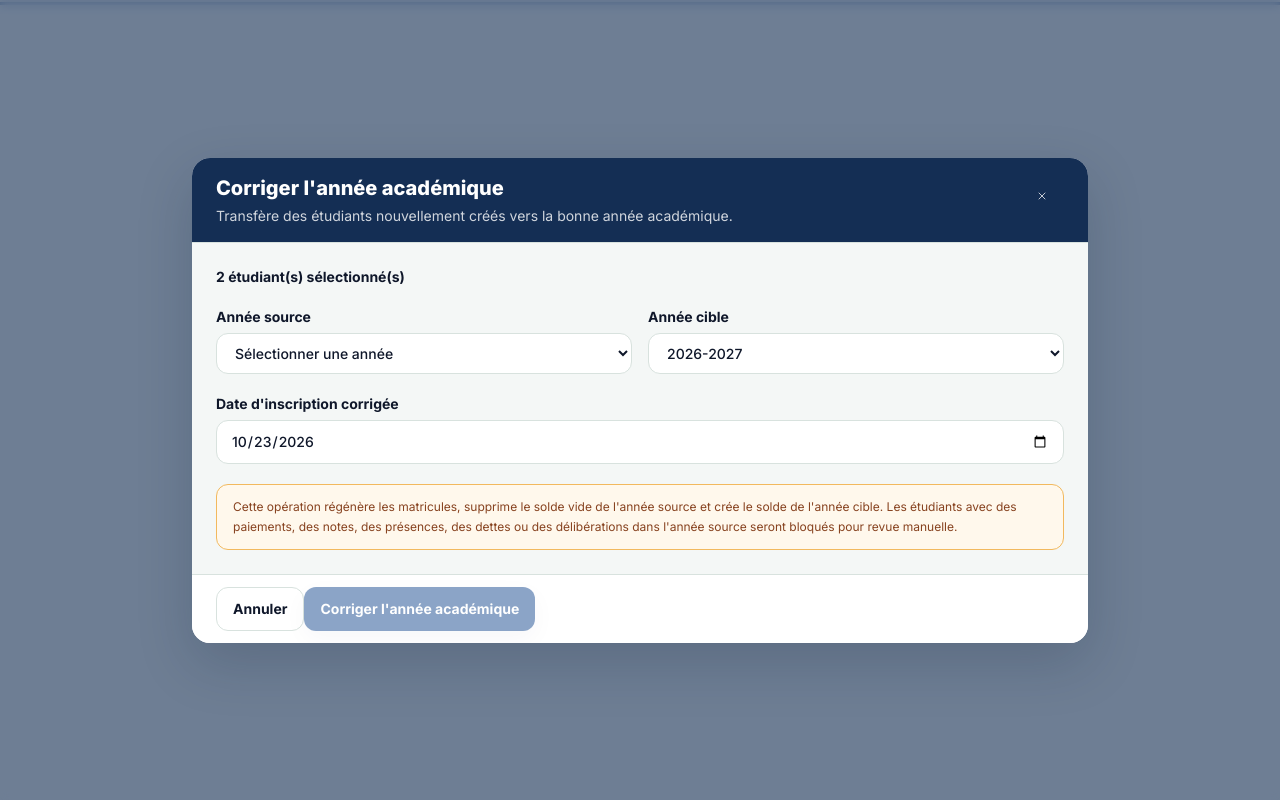
Test: AcademicYearCorrectionModal › surfaces API validation errors without closing the dialog
Check: the dropdown labelled "Année cible" shows "2026-2027", box [648,332,1064,374]
Select "2025-2026" in the dropdown labelled "Année source" at (424, 353), box [216,332,632,374]
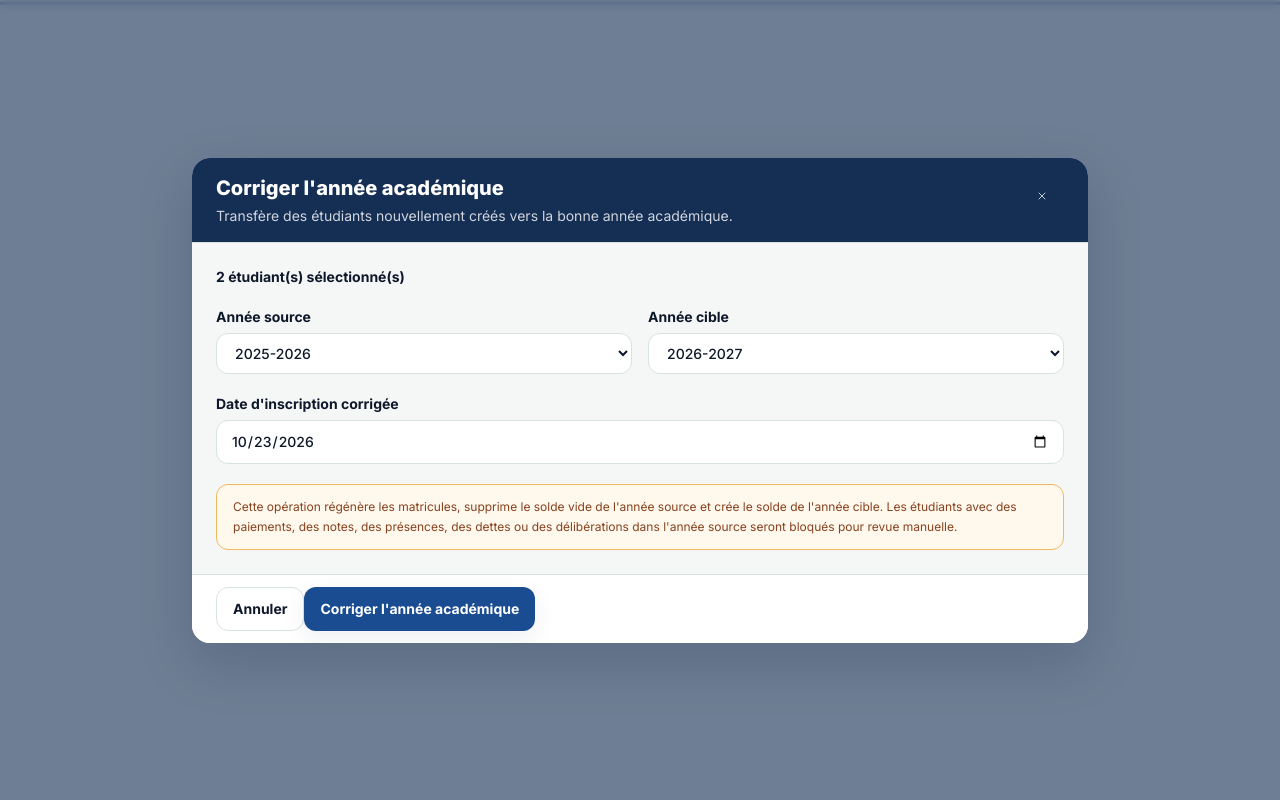
Type "2026-10-22" into the date field labelled "Date d'inscription corrigée".
click(640, 442); type("2026-10-22")  # box [216,420,1064,464]
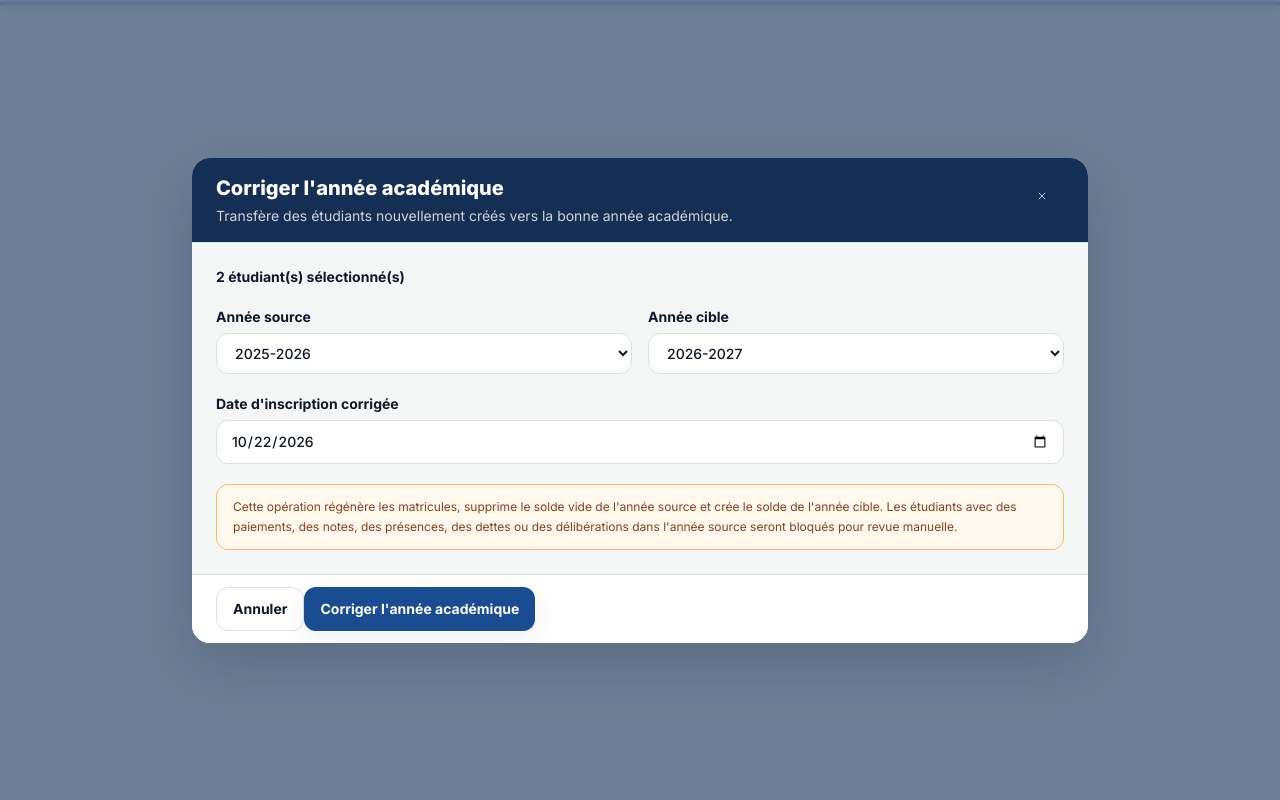
Click the button "Corriger l'année académique".
click(420, 608)  # box [304,586,535,630]
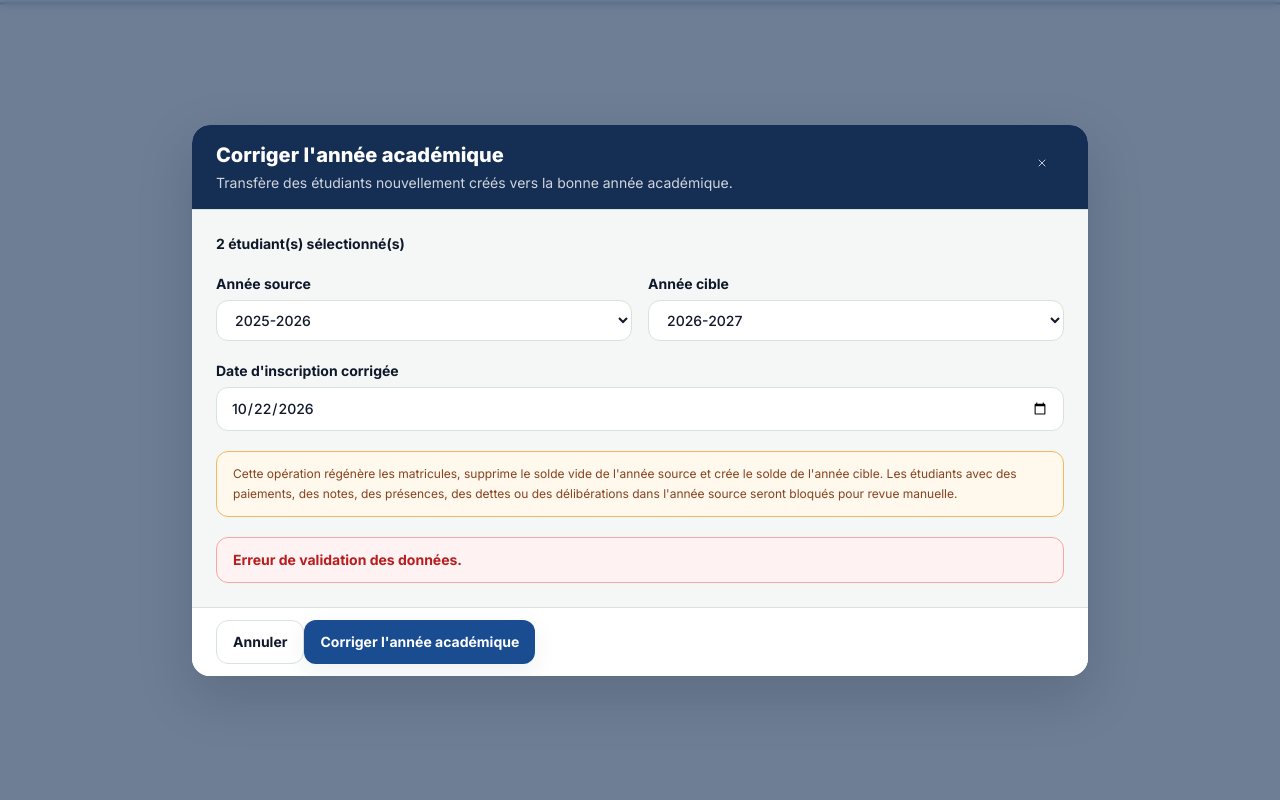
Check: the message reads "Erreur de validation des données.", box [233,550,462,568]
